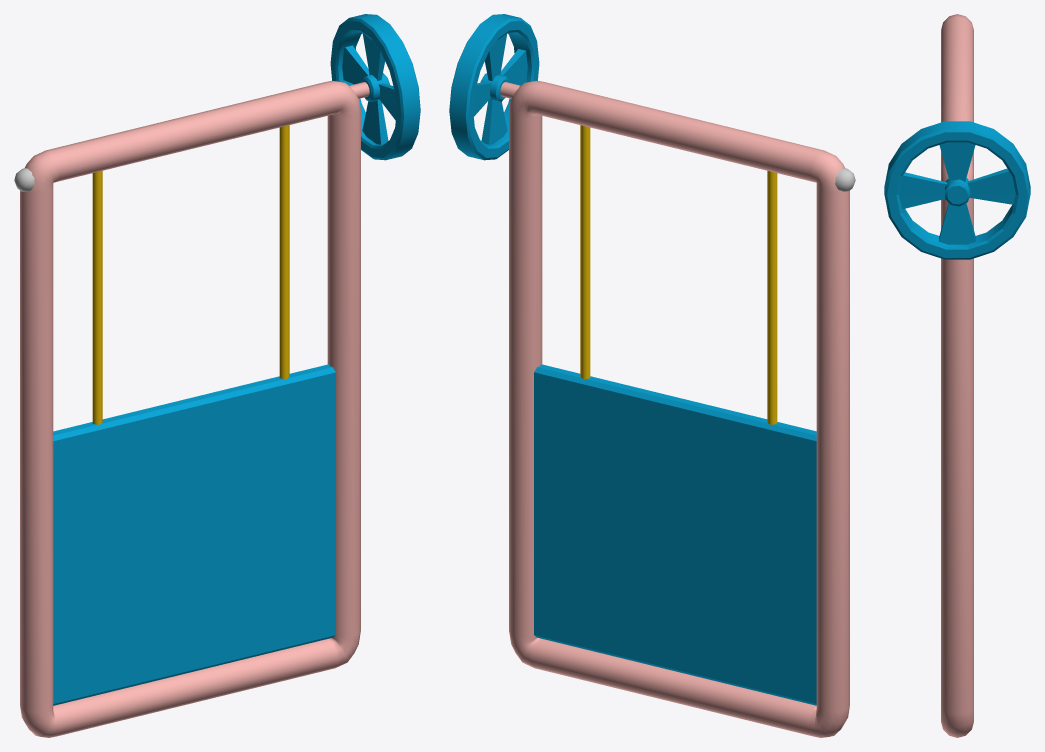
File: Door.fbx
3 renders of one model, left to right at view 1: azimuth 30°, elevation 25°; view 2: azimuth 150°, elevation 25°; view 3: azimuth 270°, elevation 25°, orthographic.
Parts seen in each view (by area): view 1: Door, Frame, Wheel; view 2: Door, Frame, Wheel; view 3: Frame, Wheel.
Boxes of the visible parts, x1,y1,x2,y2 form: Door: (53,364,335,705); Frame: (14,80,369,737); Wheel: (330,14,420,160); Door: (534,364,816,705); Frame: (500,80,855,737); Wheel: (449,14,539,160); Frame: (941,14,973,737); Wheel: (884,121,1030,259).
Size of the model in its own units: 79.38 by 130 by 27.37.
